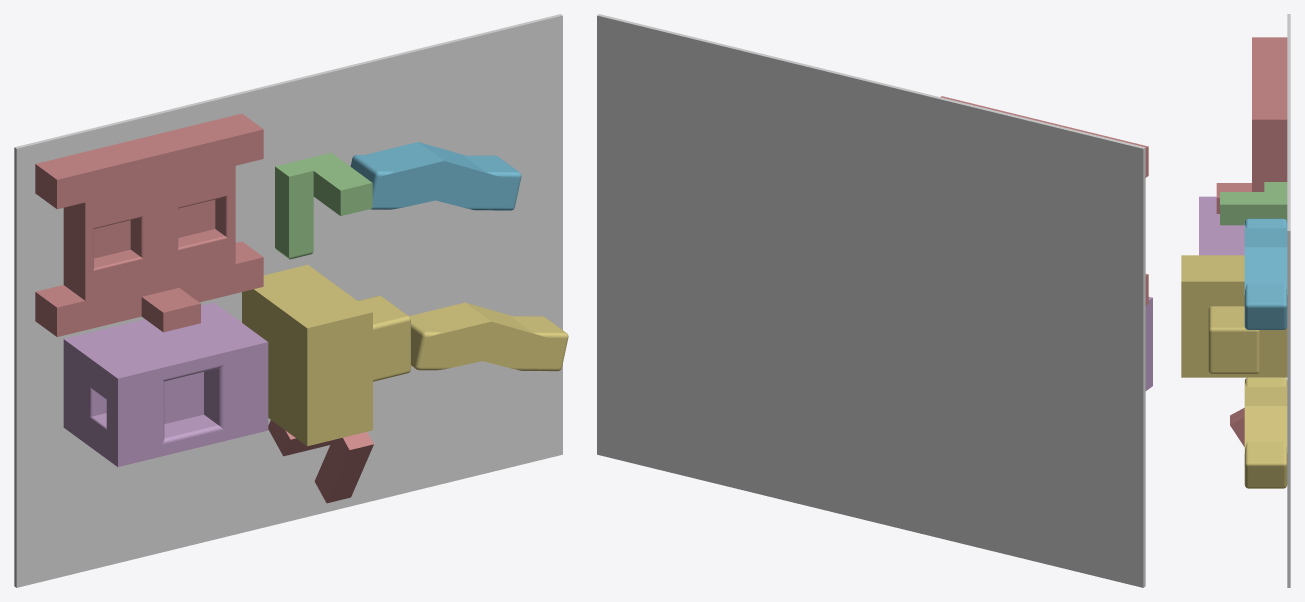
The model's file is pickup_layout.glb.
3 views of the same model, side by side, from view 1: azimuth 30°, elevation 25°; view 2: azimuth 150°, elevation 25°; view 3: azimuth 270°, elevation 25° (orthographic). The views are drawn at different scales.
Visible parts, largest first — view 1: world, 0.obj, 3.obj, 6.obj, 1.obj, 2.obj, 4.obj, 5.obj; view 2: world, 3.obj; view 3: 6.obj, 0.obj, 2.obj, 1.obj, world, 4.obj, 3.obj, 5.obj.
Part boxes in pixels (x1=…): world: x1=14, y1=14, x2=562, y2=587; 0.obj: x1=35, y1=113, x2=263, y2=336; 3.obj: x1=63, y1=302, x2=268, y2=466; 6.obj: x1=242, y1=264, x2=410, y2=446; 1.obj: x1=408, y1=302, x2=568, y2=371; 2.obj: x1=350, y1=142, x2=521, y2=210; 4.obj: x1=275, y1=152, x2=372, y2=259; 5.obj: x1=268, y1=420, x2=373, y2=503; world: x1=597, y1=14, x2=1145, y2=587; 3.obj: x1=1145, y1=297, x2=1152, y2=390; 6.obj: x1=1181, y1=255, x2=1287, y2=377; 0.obj: x1=1216, y1=37, x2=1287, y2=213; 2.obj: x1=1244, y1=218, x2=1287, y2=329; 1.obj: x1=1244, y1=377, x2=1287, y2=488; world: x1=1287, y1=14, x2=1290, y2=587; 4.obj: x1=1220, y1=182, x2=1287, y2=225; 3.obj: x1=1199, y1=196, x2=1244, y2=255; 5.obj: x1=1230, y1=407, x2=1244, y2=446.
Bounding box in the file's own units: 29.07 × 22.33 × 6.2.
